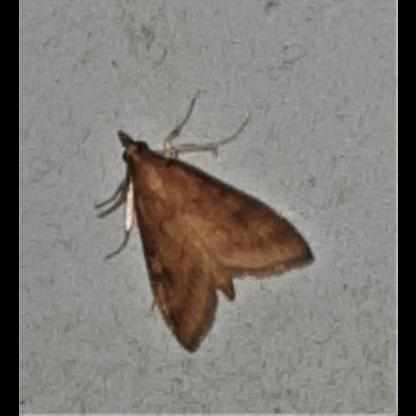Asian Corn Borer Moth: (90, 85, 318, 357)
